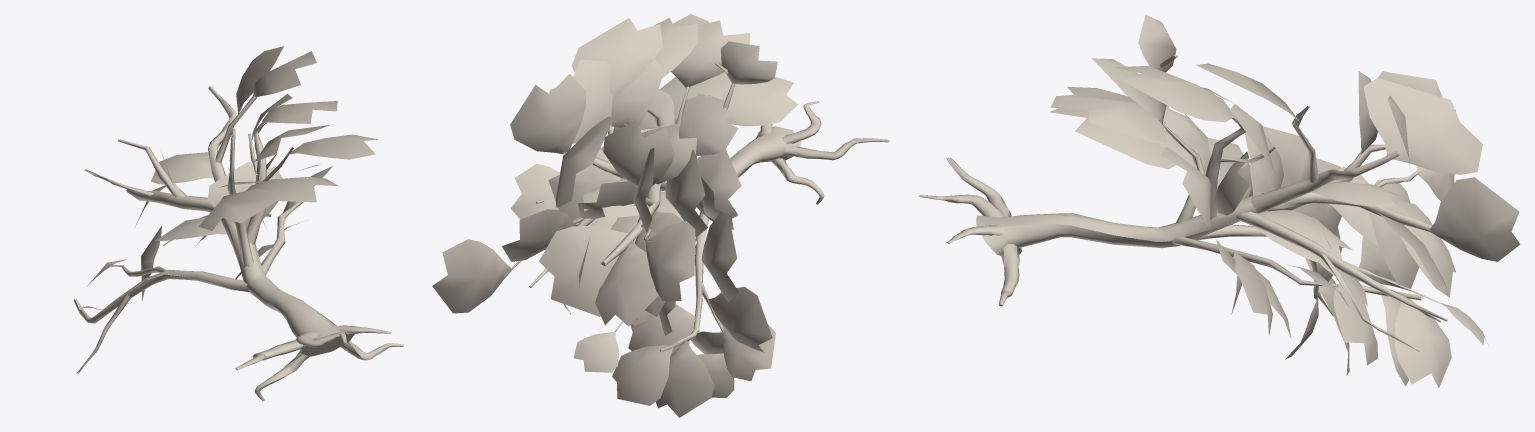
File: tree_2_cand02.glb
3 views of the same model, side by side, from view 1: azimuth 30°, elevation 25°; view 2: azimuth 150°, elevation 25°; view 3: azimuth 270°, elevation 25° (orthographic). The views are drawn at different scales.
Parts seen in each view (by area): view 1: world; view 2: world; view 3: world.
Boxes of the visible parts, box(x1,y1,x2,y2) form: world: box(74, 46, 403, 400); world: box(432, 14, 889, 417); world: box(918, 14, 1520, 387).
Size of the model in its own units: 1.33 by 1.4 by 1.92.
